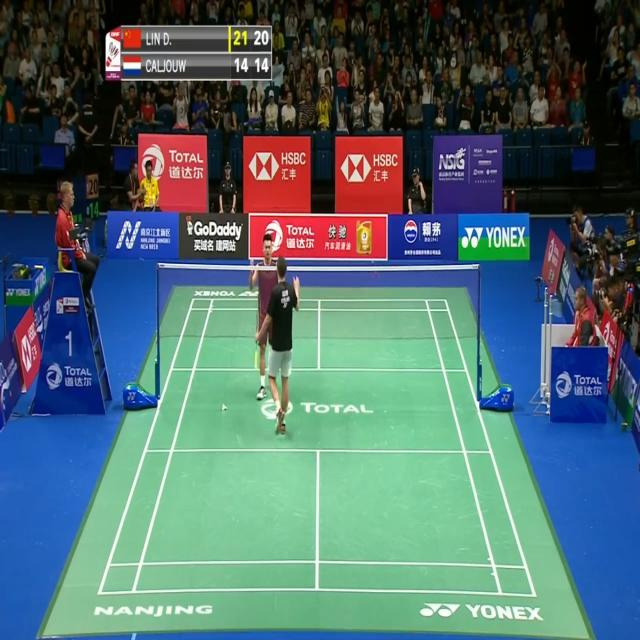Player1: (250, 248, 304, 439)
Player2: (246, 232, 284, 404)
